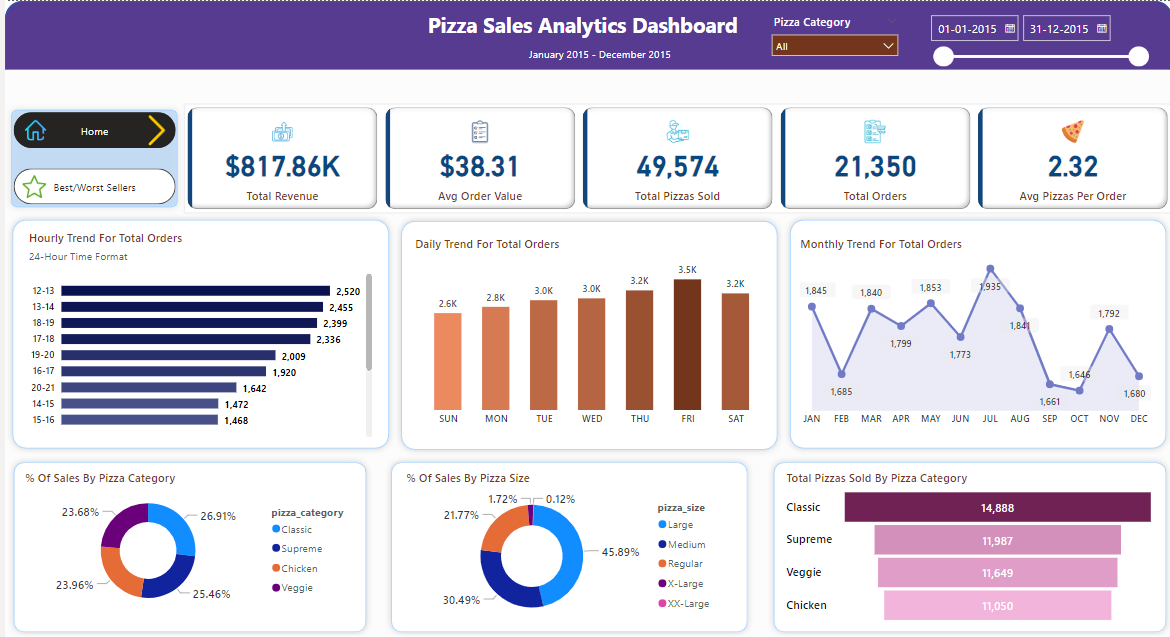

What the dashboard file says about the page in this screenshot:
{"tool":"powerbi","page":{"name":"Home","canvas":[1500,820],"ordinal":0},"visuals":[{"type":"cardVisual","fields":{"Data":["Measures Table.Total Revenue","Measures Table.Avg Order Value","Measures Table.Total Pizzas Sold","Measures Table.Total Orders","Measures Table.Avg Pizzas Per Order"]},"box":[229.8,131.7,1270.9,141.4],"z":0},{"type":"shape","box":[0,0,1500.7,88.4],"z":1000},{"type":"textbox","box":[538.2,8,424.2,46.6],"z":2000},{"type":"textbox","box":[652.3,54.6,224.9,33.7],"z":3000},{"type":"shape","box":[501.3,274.7,499.7,310.1],"z":3500},{"type":"shape","box":[1.6,273.1,500,310.1],"z":4000},{"type":"columnChart","title":"Daily Trend For Total Orders","fields":{"Category":["pizza_sales.Order Day"],"Y":["Measures Table.Total Orders"]},"box":[522.2,302.1,465.9,253.9],"z":5000},{"type":"shape","box":[1001,273.1,499.7,310.1],"z":6000},{"type":"areaChart","title":"Monthly Trend For Total Orders","fields":{"Category":["pizza_sales.Order Month"],"Y":["Measures Table.Total Orders"]},"box":[1017,302.1,461.1,253.9],"z":7000},{"type":"shape","box":[3.2,584.8,469.2,234.6],"z":8000},{"type":"shape","box":[488.4,584.8,474,234.6],"z":9000},{"type":"shape","box":[980.1,584.8,520.6,234.6],"z":10000},{"type":"donutChart","title":"% Of Sales By Pizza Category","fields":{"Category":["pizza_sales.pizza_category"],"Y":["Measures Table.Total Revenue"]},"box":[20.9,602.5,435.4,188],"z":11000},{"type":"donutChart","title":"% Of Sales By Pizza Size","fields":{"Y":["Measures Table.Total Revenue"],"Category":["pizza_sales.pizza_size"]},"box":[510.9,602.5,412.9,202.4],"z":12000},{"type":"funnel","title":"Total Pizzas Sold By Pizza Category","fields":{"Category":["pizza_sales.pizza_category"],"Y":["Measures Table.Total Pizzas Sold"]},"box":[999.4,602.5,483.6,202.4],"z":13000},{"type":"shape","box":[0,131.7,229.8,141.4],"z":14000},{"type":"slicer","fields":{"Values":["pizza_sales.pizza_category"]},"box":[975.3,11.2,183.2,65.9],"z":15000},{"type":"slicer","fields":{"Values":["pizza_sales.order_date"]},"box":[1177.7,8,300.5,80.3],"z":16000},{"type":"pageNavigator","box":[11.2,143,208.9,46.6],"z":17000},{"type":"pageNavigator","box":[11.2,215.3,208.9,46.6],"z":18000},{"type":"image","box":[20.9,143,37,46.6],"z":19000},{"type":"image","box":[17.7,218.5,40.2,40.2],"z":20000},{"type":"image","box":[170.3,141.4,49.8,49.8],"z":21000},{"type":"clusteredBarChart","title":"Hourly Trend For Total Orders","fields":{"Category":["pizza_sales.Hourly Trend"],"Y":["Measures Table.Total Orders"]},"box":[25.7,294,451.5,271.5],"z":21001}]}

Visuals, with their boxes in screenshot pixels (x1, y1, x2, y2), scaled from the page's 1500x820 canvas onto the 1170x637 screenshot:
cardVisual - Measures Table.Total Revenue x Measures Table.Avg Order Value: <region>179, 102, 1169, 212</region>
shape: <region>0, 0, 1169, 69</region>
textbox: <region>420, 6, 751, 42</region>
textbox: <region>509, 42, 684, 69</region>
shape: <region>391, 213, 781, 454</region>
shape: <region>1, 212, 391, 453</region>
"Daily Trend For Total Orders" columnChart: <region>407, 235, 771, 432</region>
shape: <region>781, 212, 1169, 453</region>
"Monthly Trend For Total Orders" areaChart: <region>793, 235, 1153, 432</region>
shape: <region>2, 454, 368, 636</region>
shape: <region>381, 454, 751, 636</region>
shape: <region>764, 454, 1169, 636</region>
"% Of Sales By Pizza Category" donutChart: <region>16, 468, 356, 614</region>
"% Of Sales By Pizza Size" donutChart: <region>399, 468, 721, 625</region>
"Total Pizzas Sold By Pizza Category" funnel: <region>780, 468, 1157, 625</region>
shape: <region>0, 102, 179, 212</region>
slicer - pizza_sales.pizza_category: <region>761, 9, 904, 60</region>
slicer - pizza_sales.order_date: <region>919, 6, 1153, 69</region>
pageNavigator: <region>9, 111, 172, 147</region>
pageNavigator: <region>9, 167, 172, 203</region>
image: <region>16, 111, 45, 147</region>
image: <region>14, 170, 45, 201</region>
image: <region>133, 110, 172, 149</region>
"Hourly Trend For Total Orders" clusteredBarChart: <region>20, 228, 372, 439</region>
